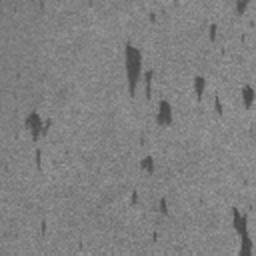Red iron sheet: (125, 45, 173, 127), (193, 76, 256, 116), (132, 155, 168, 215), (23, 109, 52, 172), (232, 207, 253, 256), (234, 0, 250, 18), (209, 23, 218, 40), (40, 220, 47, 236)
